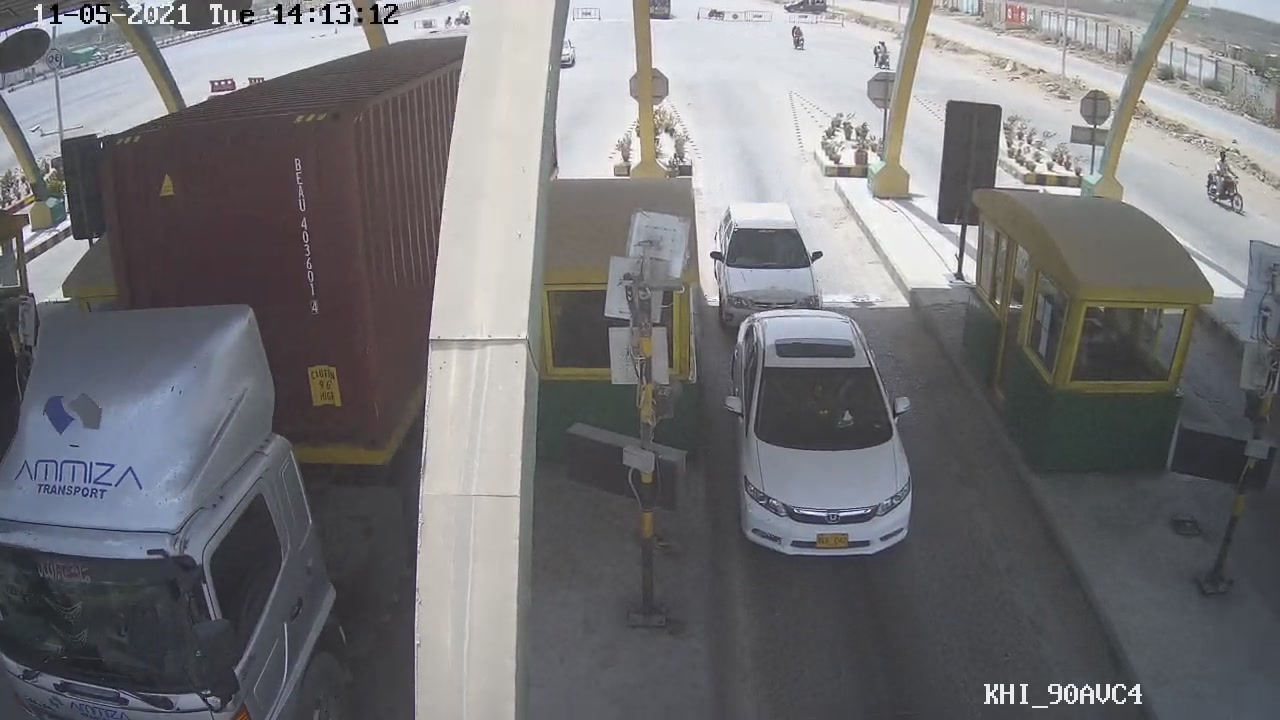F1: (715, 306, 919, 569)
